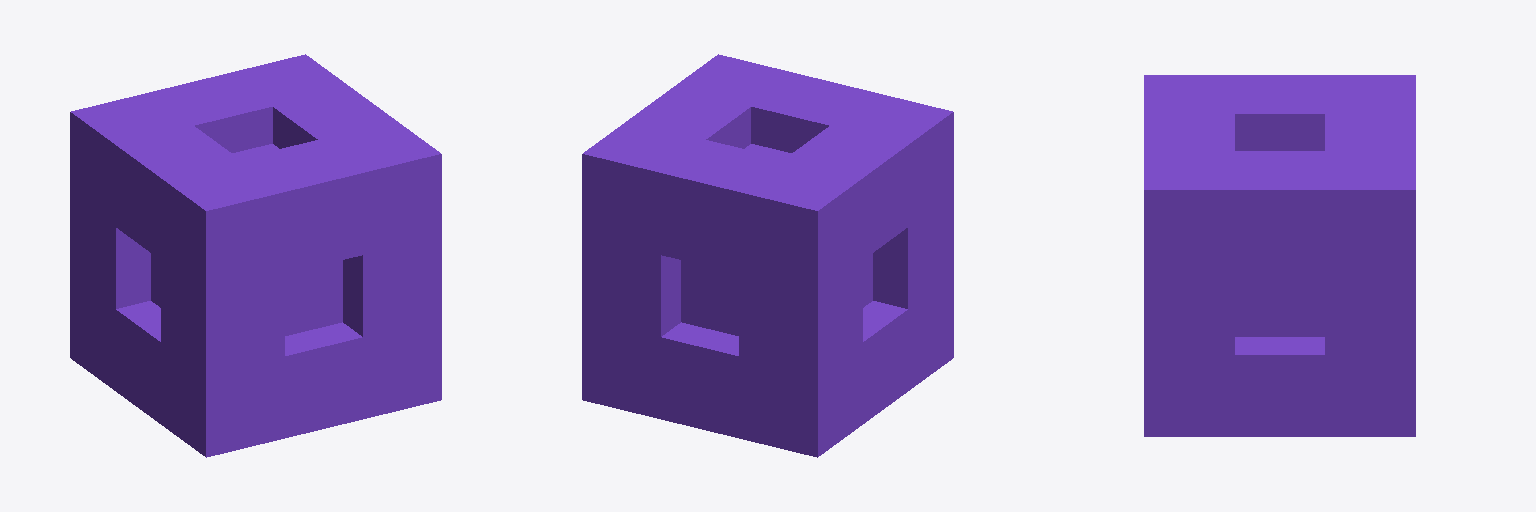
The model's file is pushable.obj.
3 renders of one model, left to right at view 1: azimuth 30°, elevation 25°; view 2: azimuth 150°, elevation 25°; view 3: azimuth 270°, elevation 25°, orthographic.
Parts seen in each view (by area): view 1: Box001; view 2: Box001; view 3: Box001.
Boxes of the visible parts, box(x1,y1,x2,y2) form: Box001: box(70, 54, 441, 457); Box001: box(582, 54, 953, 457); Box001: box(1144, 75, 1415, 436).
Bounding box in the file's own units: 20 × 20 × 20.